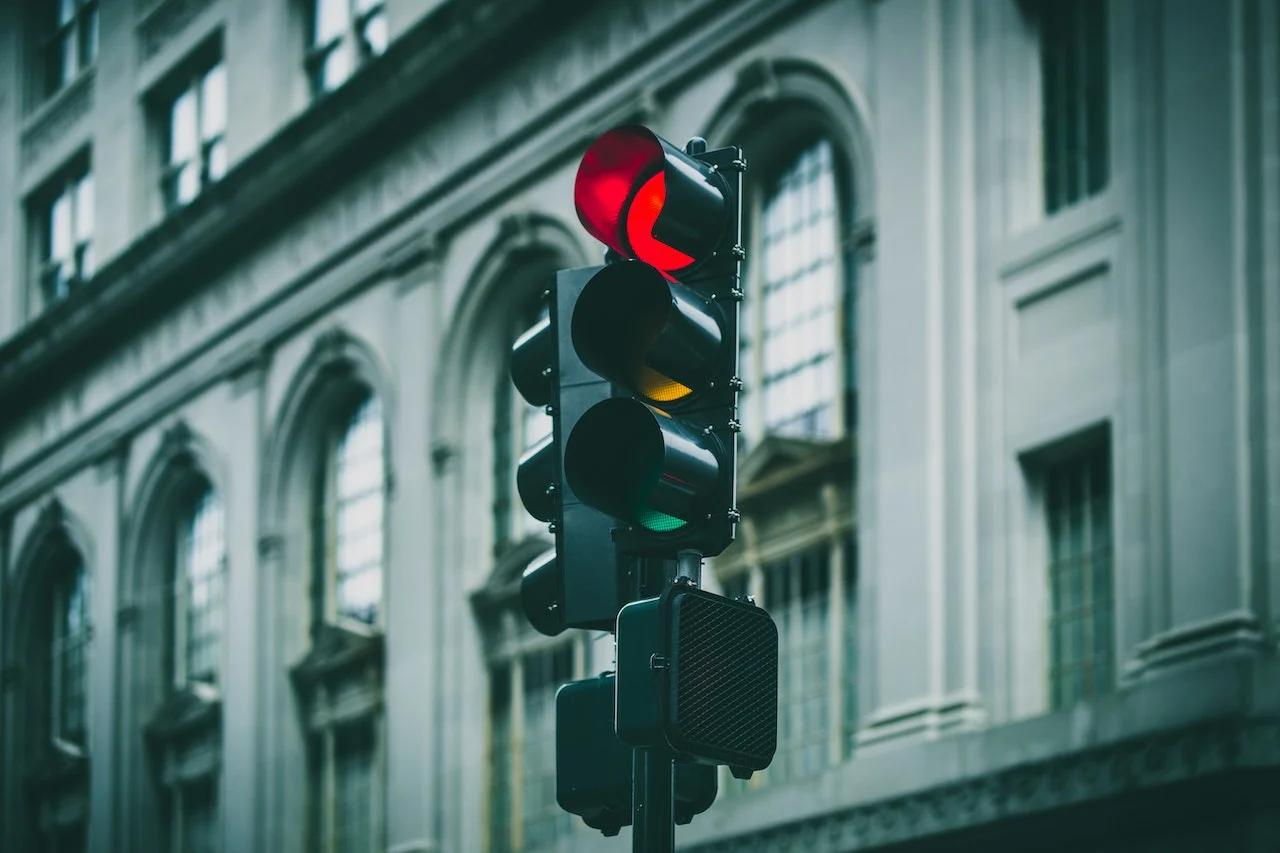traffic light: (523, 102, 787, 597), (492, 273, 672, 615)
